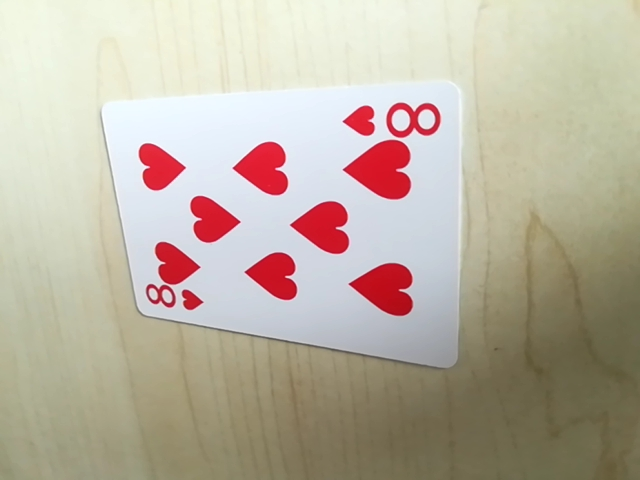hx 8: (342, 93, 446, 143), (141, 285, 202, 320)
